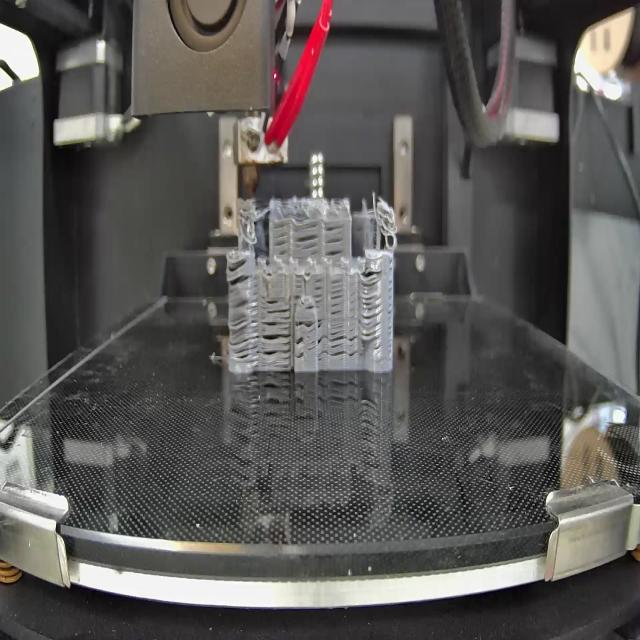cracks: (228, 300, 259, 361), (360, 268, 383, 342), (261, 321, 291, 368), (330, 324, 361, 357), (324, 216, 347, 260), (227, 255, 253, 289), (294, 225, 320, 257), (330, 278, 345, 319), (274, 223, 291, 256), (266, 295, 291, 317), (317, 320, 328, 360), (293, 272, 305, 300), (315, 276, 325, 305), (296, 336, 306, 360), (296, 319, 314, 329), (304, 302, 315, 311)
